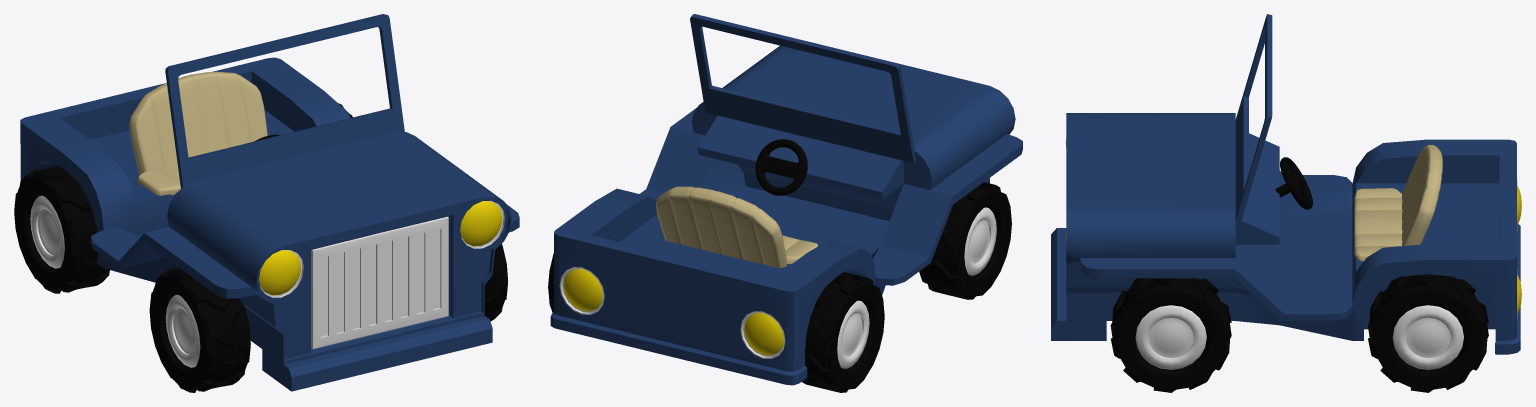
File: vehicle_jeep_01.fbx
3 renders of one model, left to right at view 1: azimuth 30°, elevation 25°; view 2: azimuth 150°, elevation 25°; view 3: azimuth 270°, elevation 25°, orthographic. The views are drawn at different scales.
Parts seen in each view (by area): view 1: carbody_geo, wheel_right_front, wheel_right_back, wheel_left_front; view 2: carbody_geo, wheel_right_back, wheel_right_front, steeringwheel_geo; view 3: carbody_geo, wheel_left_back, wheel_left_front, steeringwheel_geo.
Boxes of the visible parts, x1=… form: carbody_geo: x1=20, y1=14, x2=519, y2=391; wheel_right_front: x1=149, y1=268, x2=250, y2=392; wheel_right_back: x1=14, y1=165, x2=109, y2=293; wheel_left_front: x1=484, y1=244, x2=507, y2=321; carbody_geo: x1=550, y1=14, x2=1022, y2=385; wheel_right_back: x1=802, y1=272, x2=884, y2=392; wheel_right_front: x1=919, y1=182, x2=1011, y2=299; steeringwheel_geo: x1=755, y1=139, x2=807, y2=195; carbody_geo: x1=1051, y1=14, x2=1521, y2=354; wheel_left_back: x1=1368, y1=274, x2=1488, y2=392; wheel_left_front: x1=1110, y1=278, x2=1231, y2=392; steeringwheel_geo: x1=1275, y1=157, x2=1312, y2=209.
Bounding box in the file's own units: 177 × 155 × 253.
